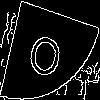O: (25, 25, 67, 80)
